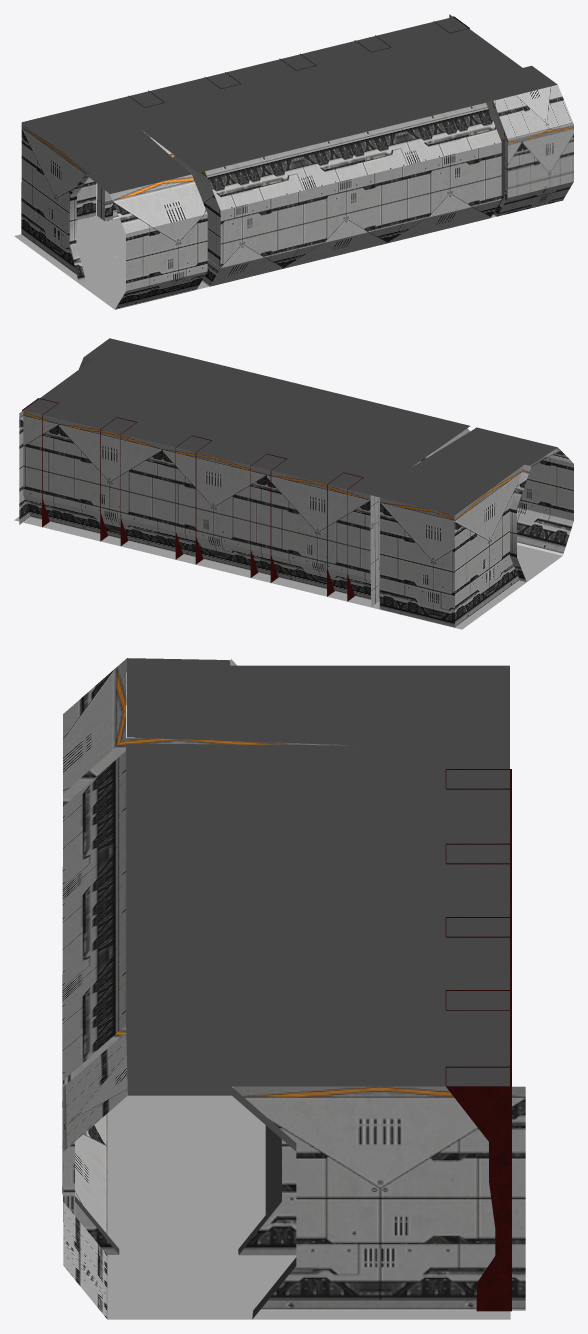
The model's file is Corridor Security.fbx.
The picture shows the model from 3 angles, top to bottom: view 1: azimuth 30°, elevation 25°; view 2: azimuth 150°, elevation 25°; view 3: azimuth 270°, elevation 25°; orthographic projection. The views are drawn at different scales.
Parts seen in each view (by area): view 1: pCube2; view 2: pCube2, pillar_1, pillar_2, pillar_4, pillar_3; view 3: pCube2, pillar_5.
Boxes of the visible parts, x1,y1,x2,y2 form: pCube2: (14,14,573,309); pCube2: (14,338,573,629); pillar_1: (250,453,286,582); pillar_2: (175,435,211,564); pillar_4: (100,417,136,545); pillar_3: (327,472,363,601); pCube2: (62,658,525,1319); pillar_5: (445,1066,511,1311).
Size of the model in its own units: 11.43 by 2.74 by 5.12.
Materials: 3 (2 with a texture image).
